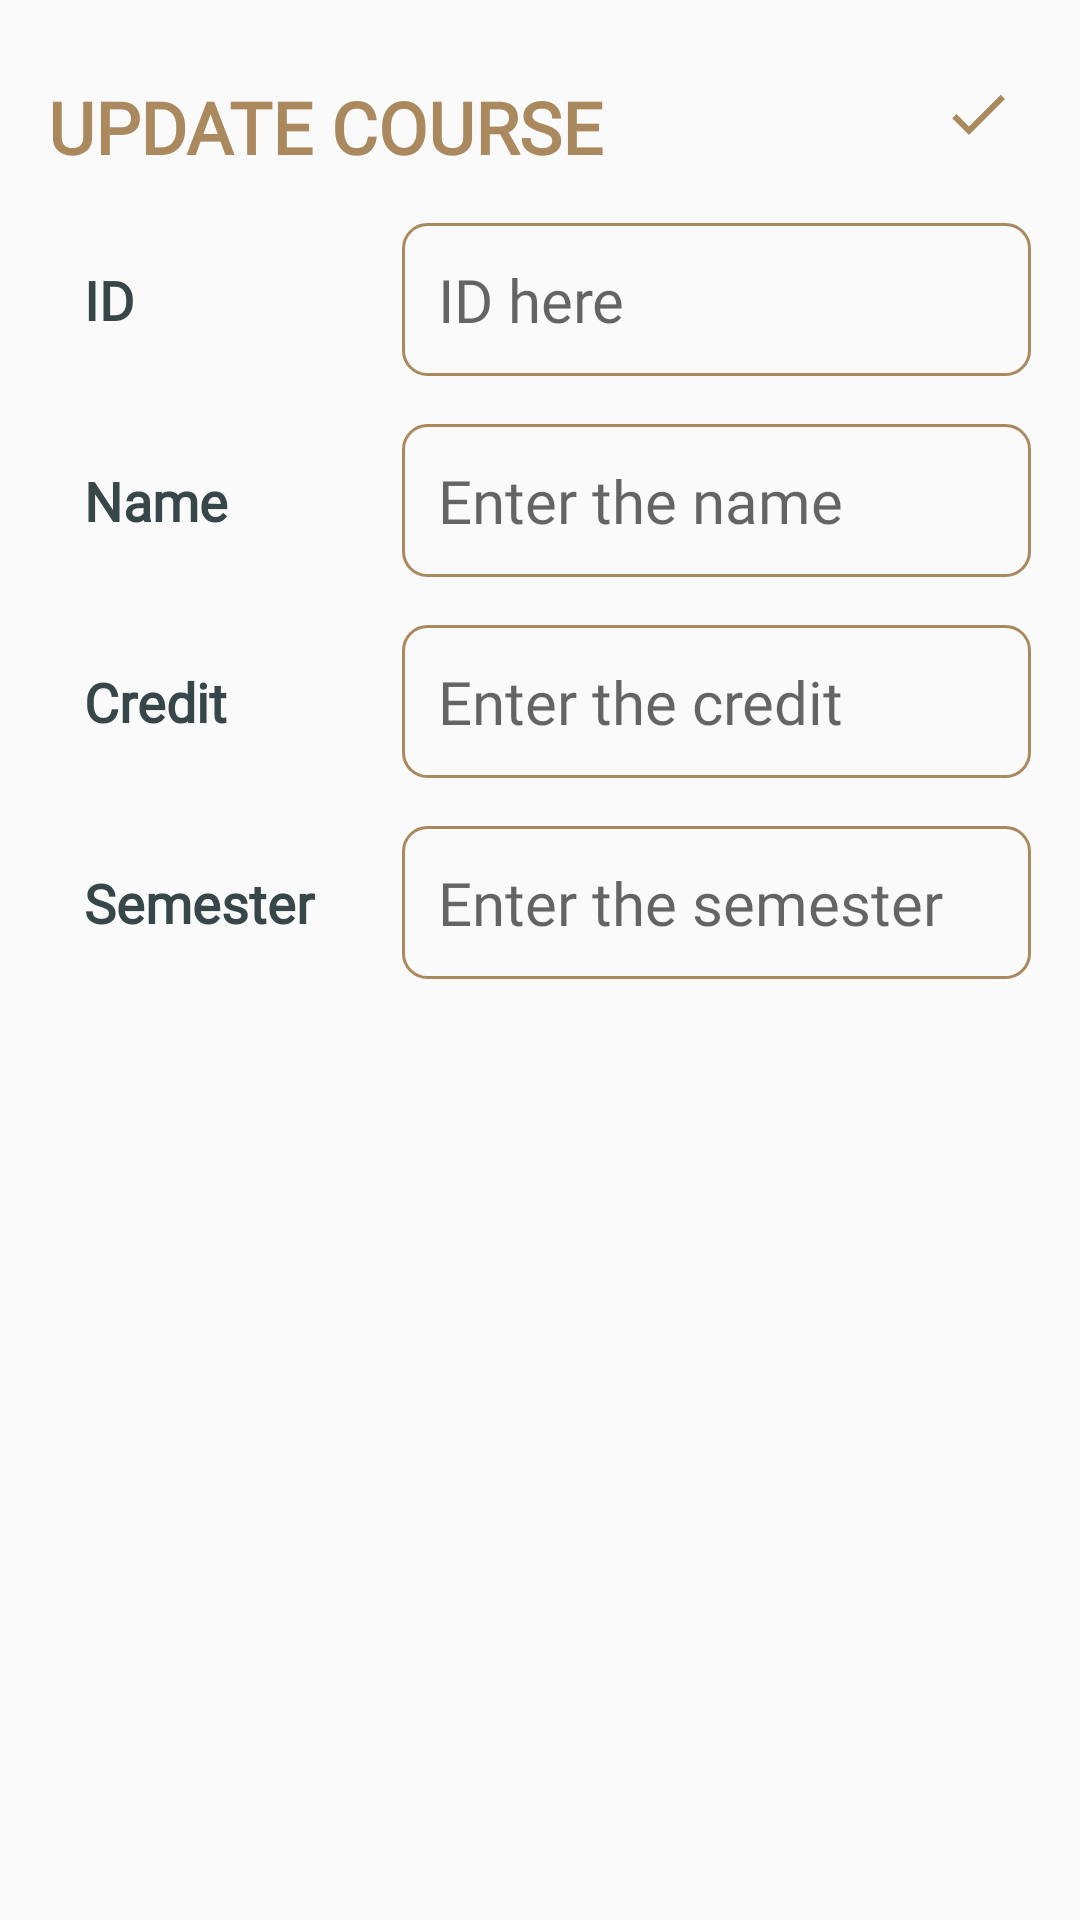

Icon click points for this 1080*1920 phone screenshot, format (x=x, y=y):
check: (x=978, y=115)
